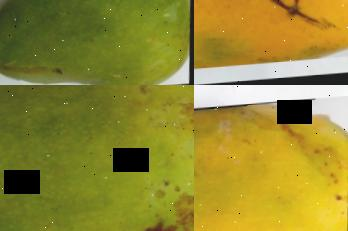PartiallyRipe: (194, 93, 348, 231)
Ripe: (194, 0, 348, 73)
Unripe: (0, 85, 194, 231), (0, 0, 194, 85)
